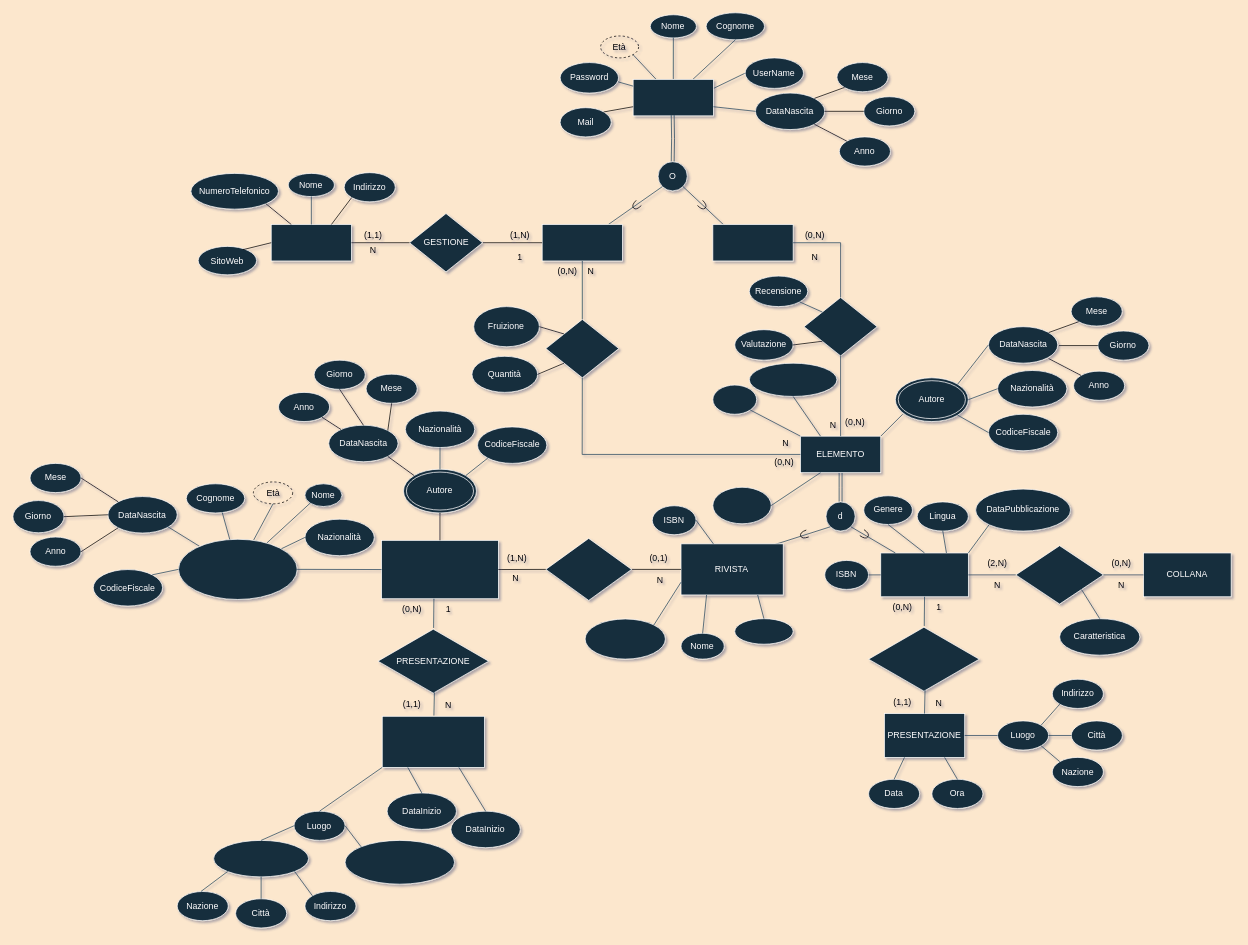
This 1248x945 diagram has some shape labels left out. Here are the shapes that lost their labels. From the top down, the centre of each, then its label:
point (672, 97): UTENTE
point (310, 242): LIBRERIA
point (581, 242): VENDITORE
point (752, 242): STANDARD
point (840, 326): PREFERITI
point (582, 348): POSSESSO
point (734, 399): Titolo
point (793, 379): AnnoPubblicazione
point (741, 505): Editore
point (237, 569): ResponsabilePubblicazione
point (439, 569): ARTICOLO_SCIENTIFICO
point (588, 569): COMPOSIZIONE
point (924, 574): LIBRO
point (1059, 574): APPARTENENZA
point (624, 638): AnnoFondazione
point (763, 631): Argomento
point (923, 658): PARTECIPAZIONE
point (432, 741): CONFERENZA
point (261, 858): LuogoConferenza
point (399, 862): StrutturaOrganizzatrice
